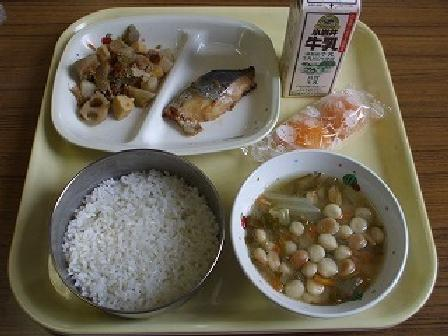Fish: (169, 56, 267, 139)
Milk: (275, 1, 368, 103)
Rice: (49, 153, 217, 312)
Soups: (240, 160, 404, 306)
cooked food meat with vegetables: (50, 23, 168, 121)
